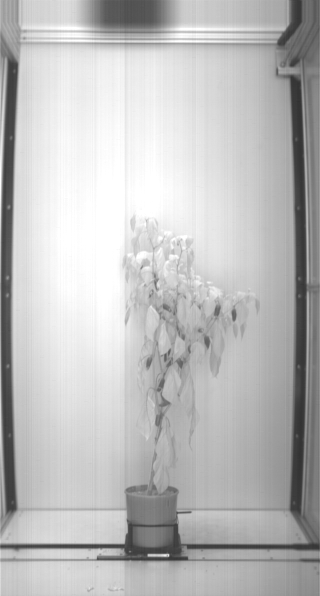bell-pepper fooled_you: (141, 353, 154, 377), (152, 337, 161, 358), (180, 352, 188, 375), (131, 297, 141, 315), (110, 303, 118, 319), (142, 329, 159, 336), (175, 345, 182, 361), (150, 402, 164, 410), (232, 269, 239, 285), (148, 414, 154, 429), (199, 322, 206, 331)
